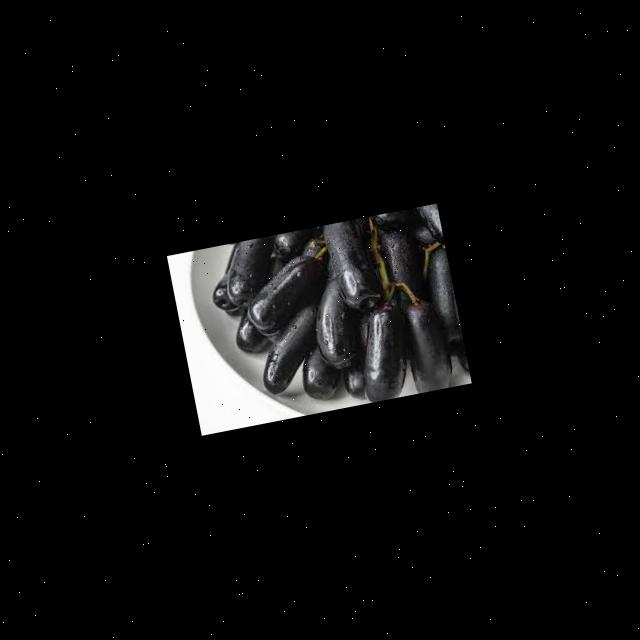grape: (203, 204, 471, 428)
